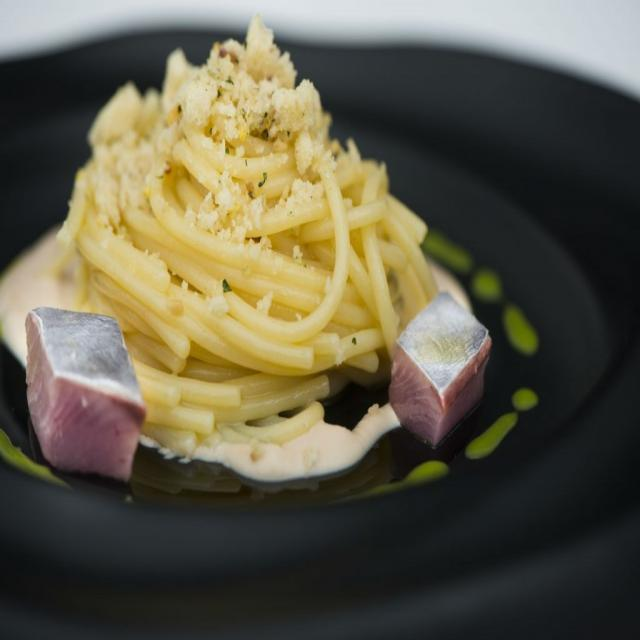Oil pasta: (56, 25, 506, 487)
